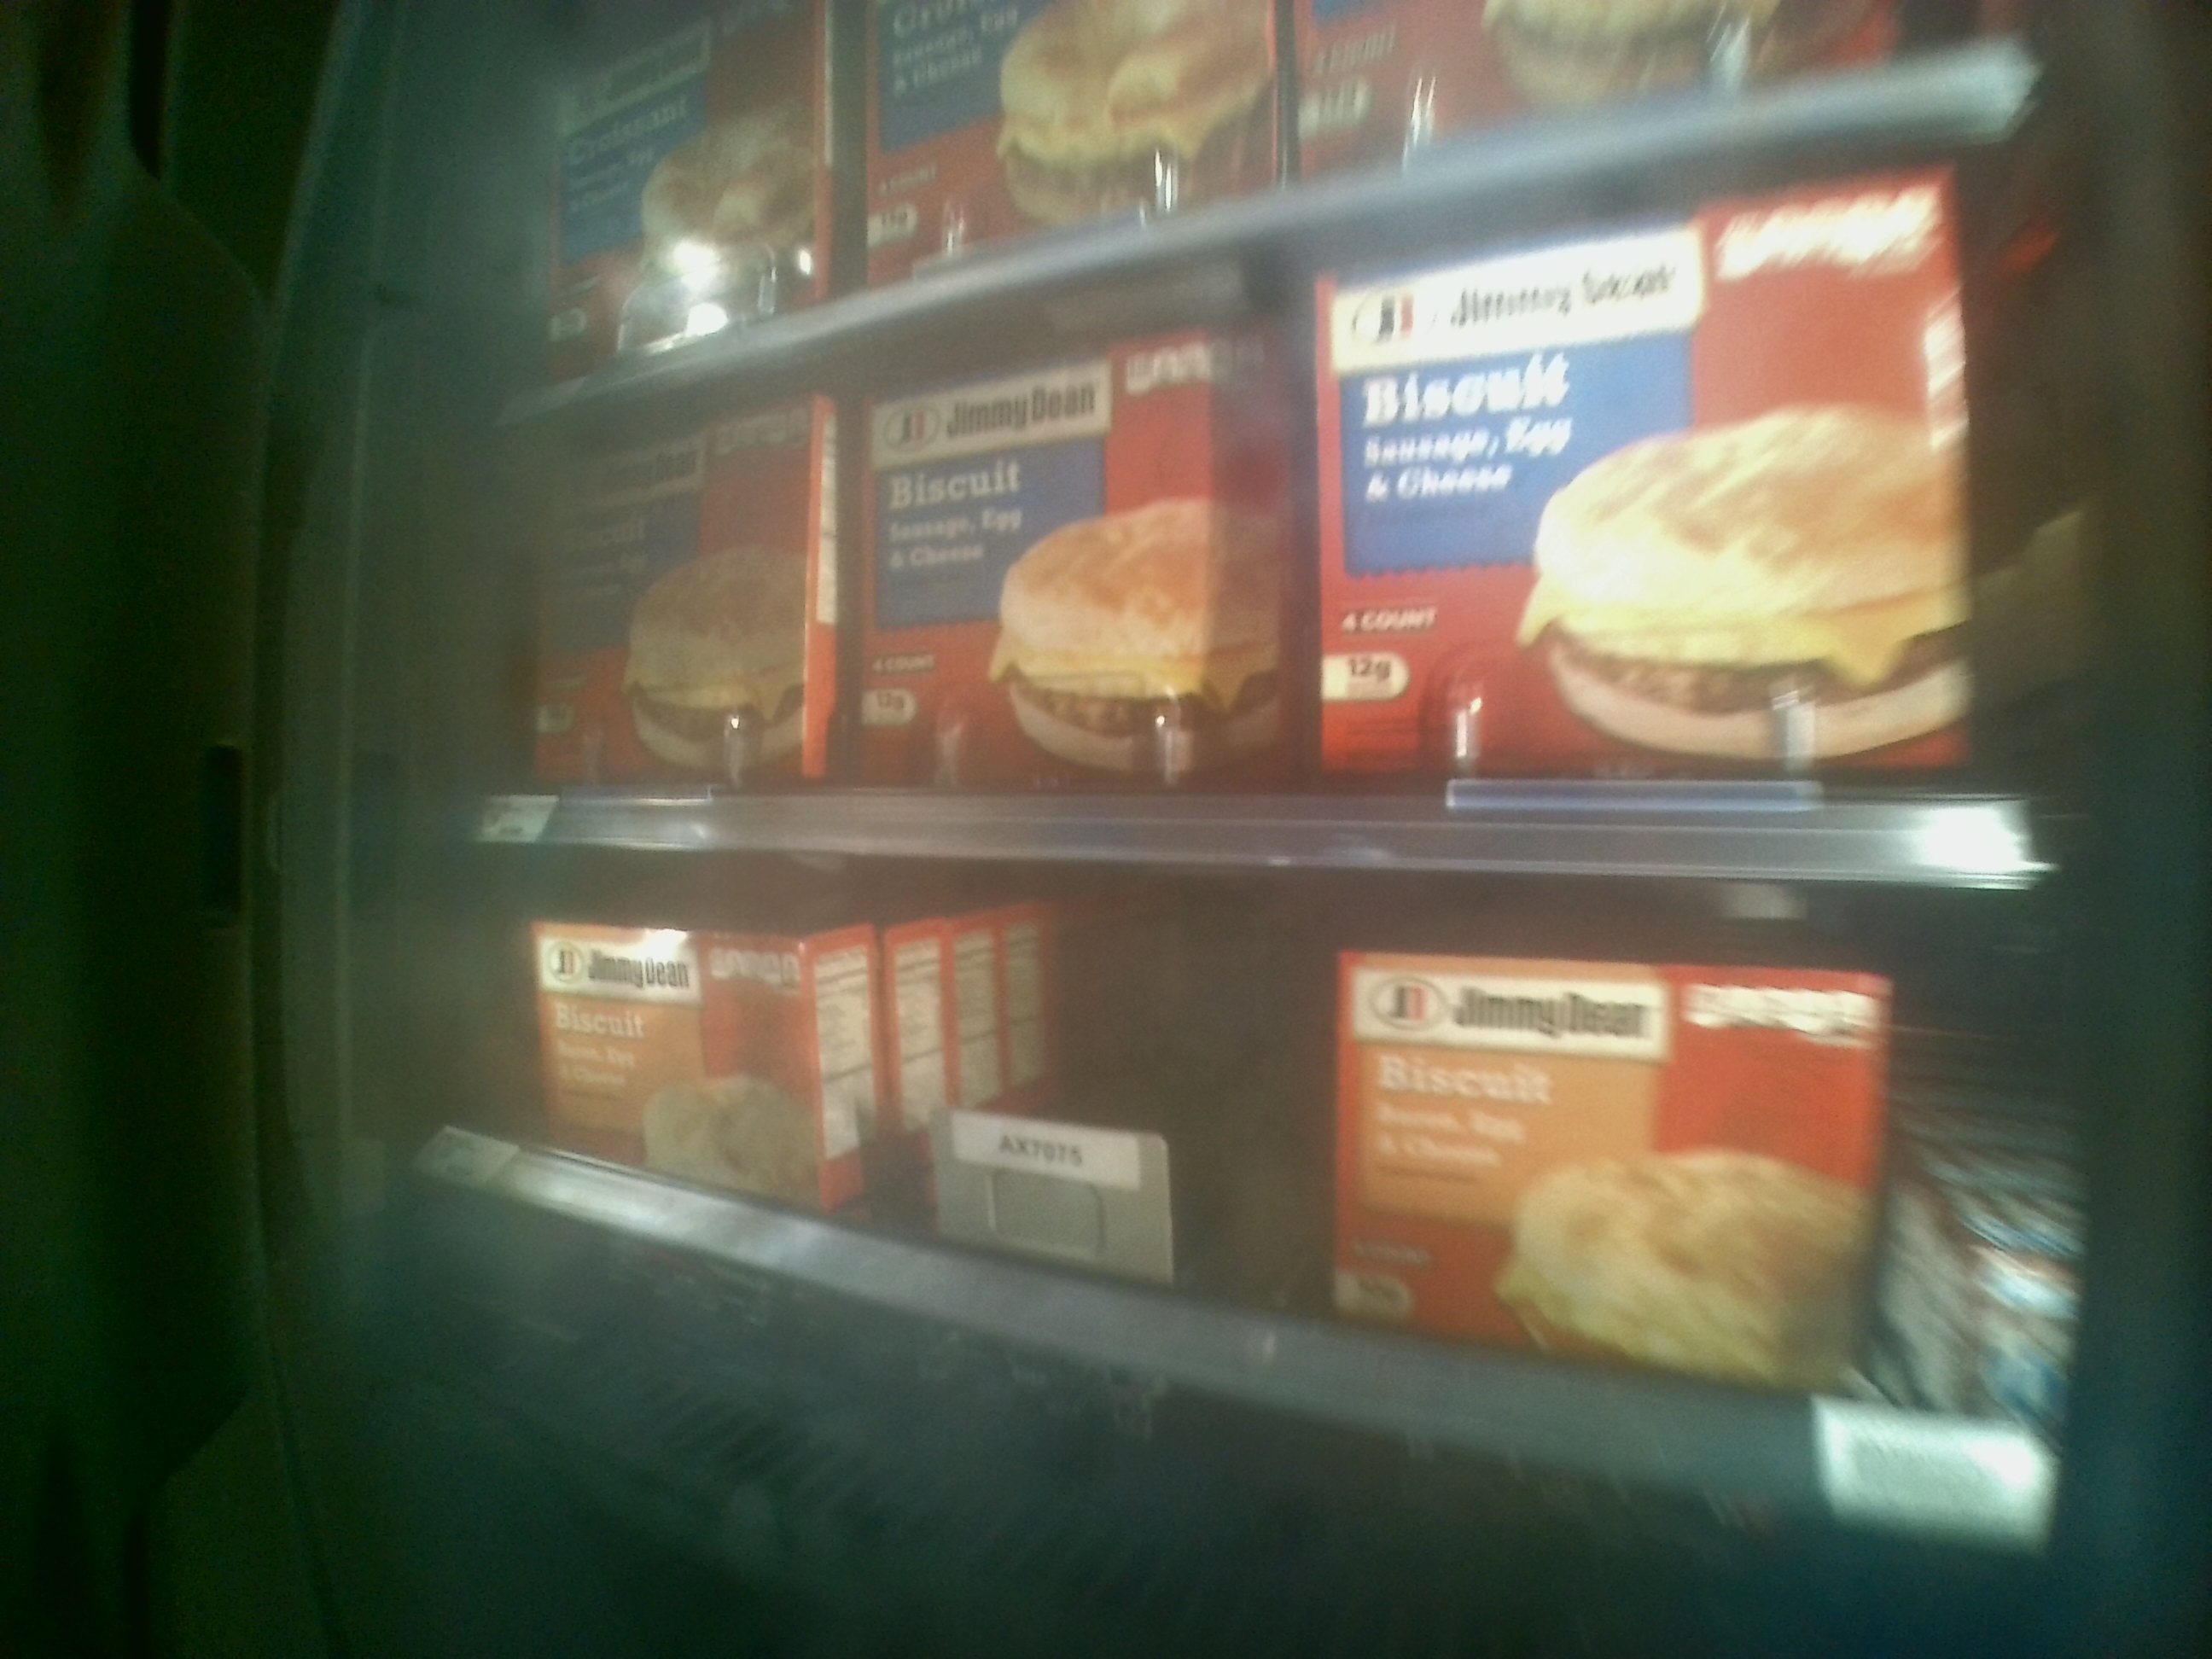shelf: (479, 103, 2036, 903)
